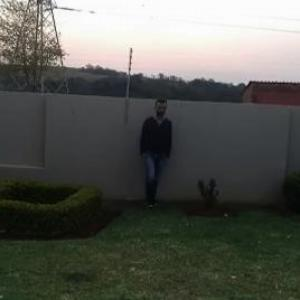follow: (138, 94, 172, 210)
